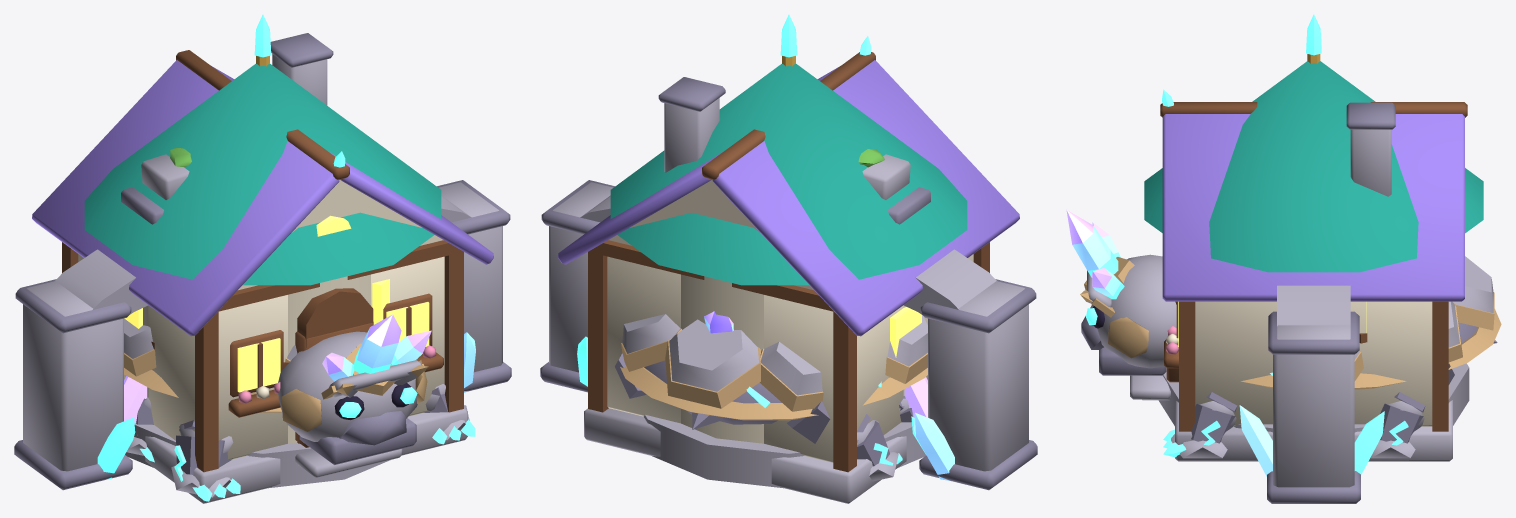
The model's file is synes_kit_B.glb.
The picture shows the model from 3 angles, left to right: view 1: azimuth 30°, elevation 25°; view 2: azimuth 150°, elevation 25°; view 3: azimuth 270°, elevation 25°; orthographic projection. The views are drawn at different scales.
Parts seen in each view (by area): view 1: house_a, house_b, crystal_gate, prismback_body, prismback_legs, prismback_horn, ruin_arch, prismback_shell; view 2: house_a, house_b, crystal_gate, prismback_shell, prismback_legs, ruin_arch, prismback_body; view 3: house_a, house_b, crystal_gate, prismback_body, prismback_legs, prismback_shell, prismback_horn.
Part boxes in pixels (x1=…): house_a: x1=32, y1=33, x2=493, y2=503; house_b: x1=84, y1=14, x2=441, y2=488; crystal_gate: x1=14, y1=180, x2=511, y2=490; prismback_body: x1=278, y1=331, x2=428, y2=464; prismback_legs: x1=126, y1=384, x2=475, y2=501; prismback_horn: x1=322, y1=314, x2=431, y2=381; ruin_arch: x1=121, y1=148, x2=191, y2=224; prismback_shell: x1=124, y1=318, x2=297, y2=412; house_a: x1=558, y1=36, x2=1019, y2=503; house_b: x1=610, y1=14, x2=967, y2=488; crystal_gate: x1=540, y1=180, x2=1037, y2=490; prismback_shell: x1=620, y1=311, x2=927, y2=420; prismback_legs: x1=615, y1=353, x2=912, y2=481; ruin_arch: x1=858, y1=149, x2=930, y2=224; prismback_body: x1=687, y1=411, x2=777, y2=429; house_a: x1=1142, y1=89, x2=1467, y2=461; house_b: x1=1130, y1=14, x2=1483, y2=432; crystal_gate: x1=1239, y1=285, x2=1384, y2=503; prismback_body: x1=1080, y1=254, x2=1497, y2=375; prismback_legs: x1=1163, y1=363, x2=1454, y2=458; prismback_shell: x1=1241, y1=256, x2=1501, y2=389; prismback_horn: x1=1066, y1=209, x2=1124, y2=299.
Size of the model in its own units: 6.1 by 5.22 by 5.32.
